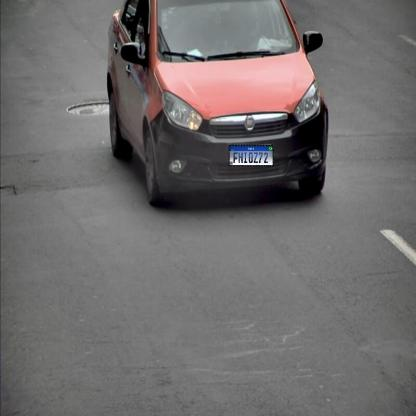PlacaM: (229, 145, 273, 166)
